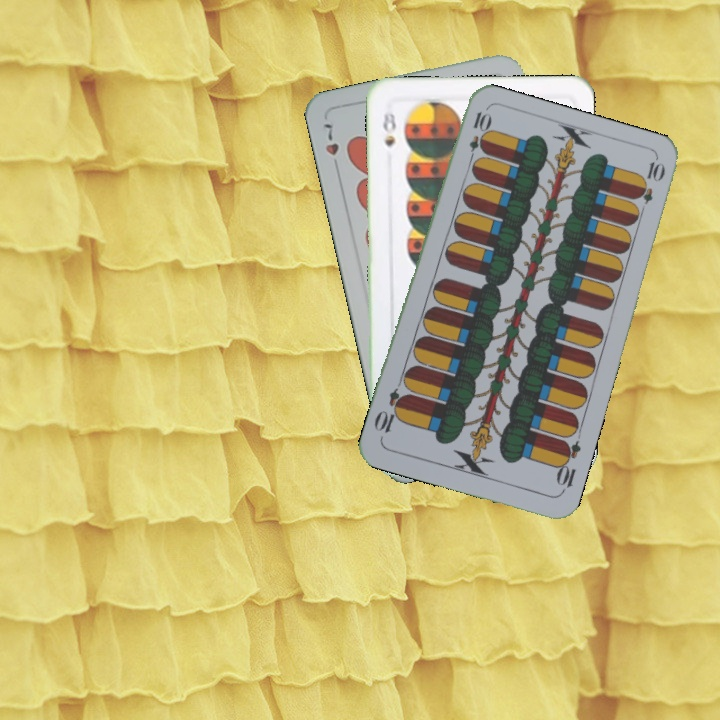E10: (552, 436, 583, 496), (464, 107, 491, 167)
H7: (319, 117, 343, 175)
S8: (379, 106, 399, 149)
